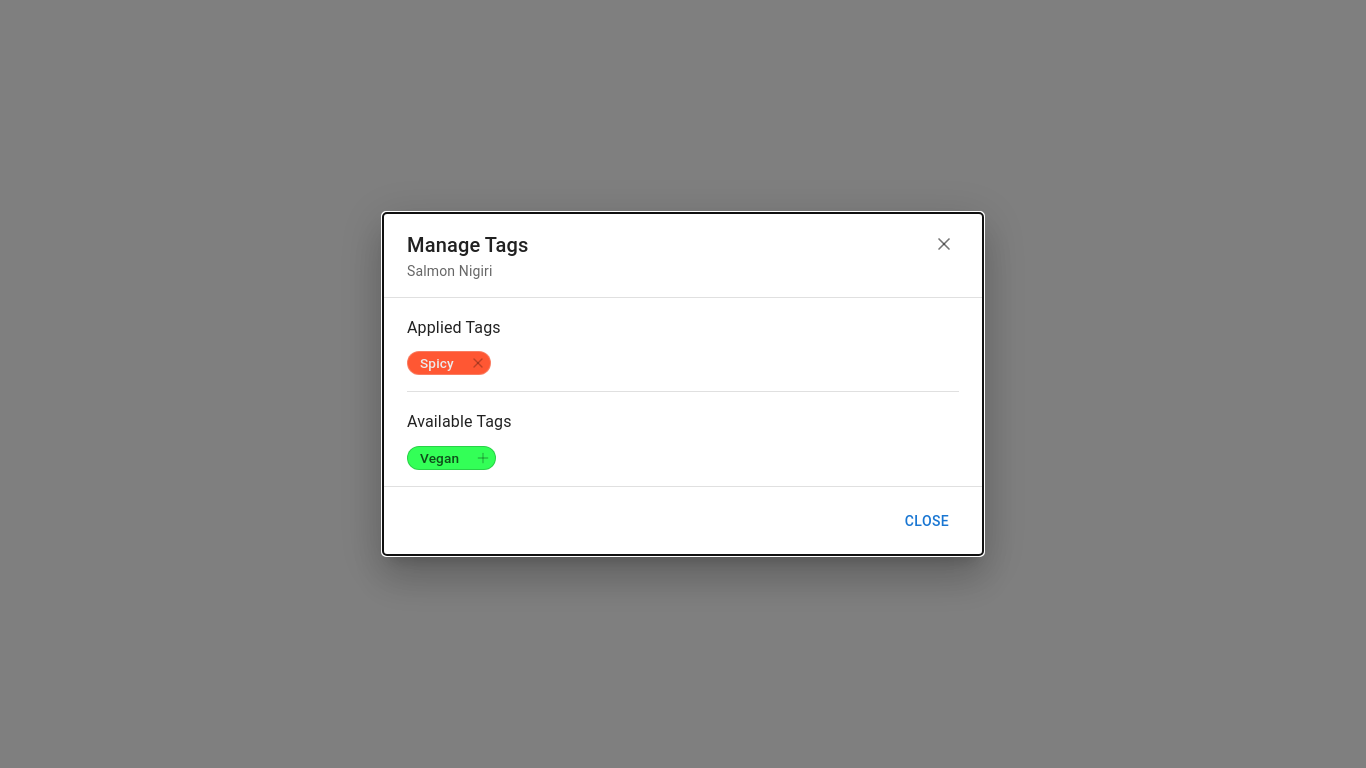
Scenario: Tags dialog › shows the server's reason and leaves the tag where it was when adding fails
Click the button "Vegan". click: x=452, y=458
box: x1=407 y1=446 x2=496 y2=470
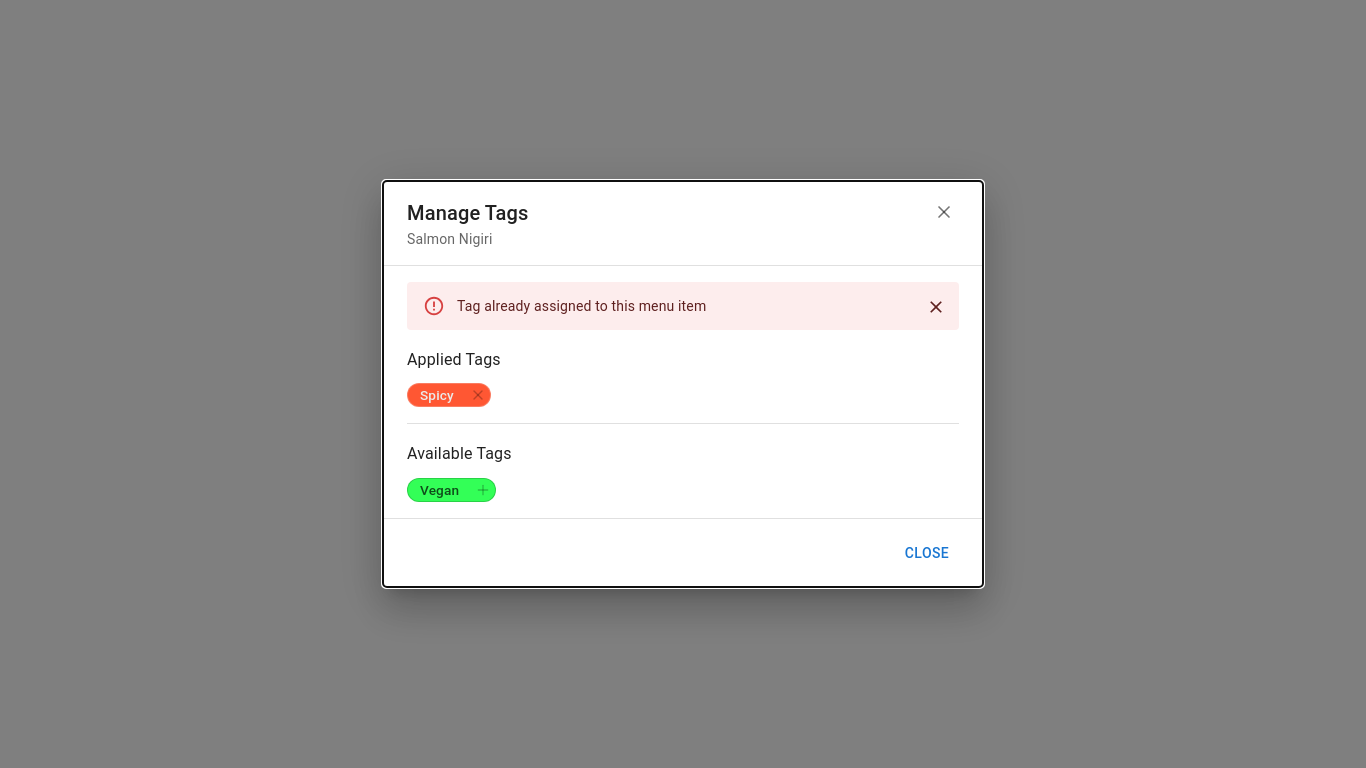
expect the text "Vegan" is shown: met, box x1=420 y1=482 x2=459 y2=498
expect the message reads "Tag already assigned to this menu item": met, box x1=457 y1=298 x2=706 y2=314
